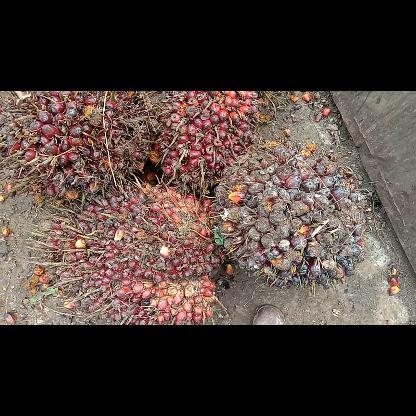Kurang masak: (206, 134, 372, 290)
TBS masak: (34, 178, 220, 324), (0, 91, 157, 204), (152, 91, 264, 193)
